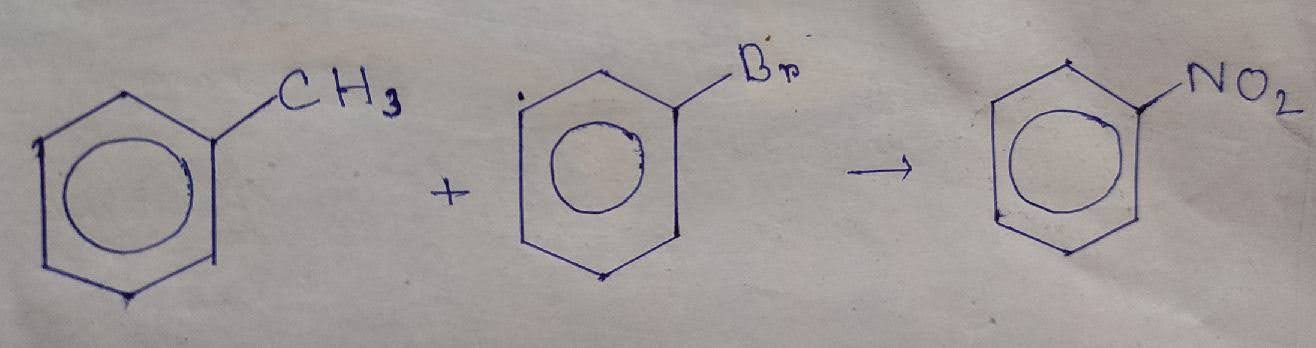Bromobenzene(C6H5Br): (513, 40, 805, 287)
Nitrobenzene(C6H5NO2): (985, 43, 1309, 261)
Toluene(C7H8): (27, 60, 407, 308)
